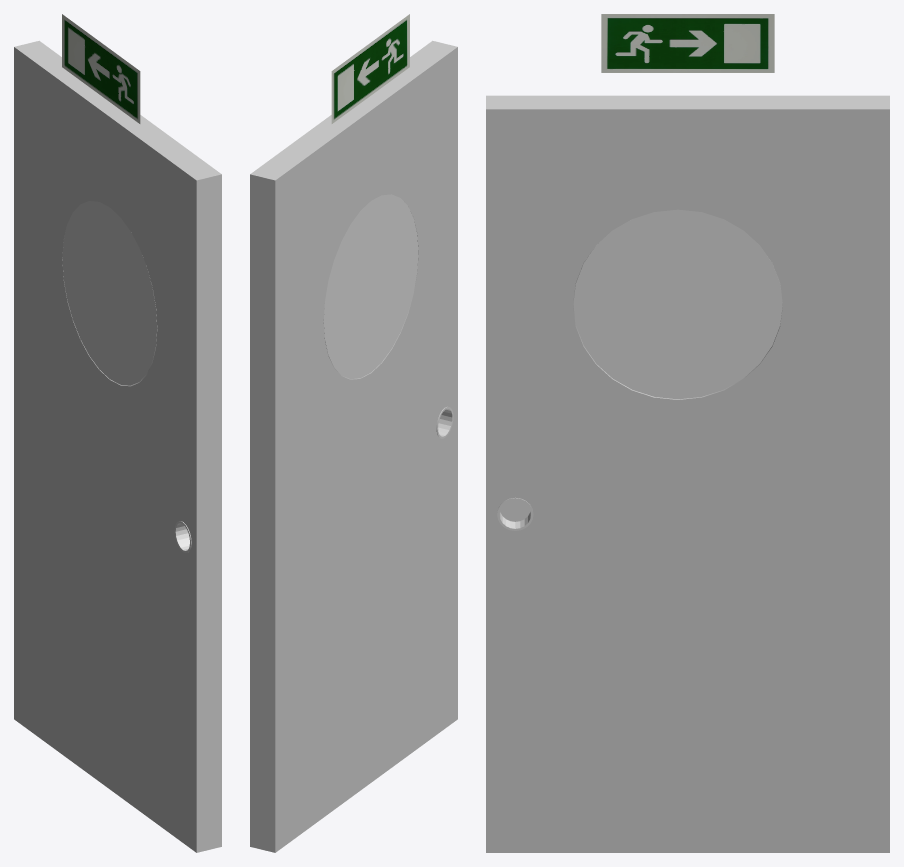
The model's file is puerta_lab.fbx.
The picture shows the model from 3 angles, left to right: view 1: azimuth 30°, elevation 25°; view 2: azimuth 150°, elevation 25°; view 3: azimuth 270°, elevation 25°; orthographic projection. The views are drawn at different scales.
Parts seen in each view (by area): view 1: Rectangle234, Cylinder208, Plane001, Cylinder207; view 2: Rectangle234, Cylinder208, Plane001, Cylinder207; view 3: Rectangle234, Cylinder208, Plane001, Cylinder207.
Boxes of the visible parts, bbox=[...] form: Rectangle234: bbox=[14, 40, 221, 852]; Cylinder208: bbox=[62, 201, 157, 385]; Plane001: bbox=[62, 14, 140, 123]; Cylinder207: bbox=[174, 521, 191, 552]; Rectangle234: bbox=[250, 40, 457, 852]; Cylinder208: bbox=[323, 194, 418, 378]; Plane001: bbox=[331, 14, 409, 123]; Cylinder207: bbox=[436, 406, 453, 438]; Rectangle234: bbox=[486, 95, 889, 852]; Cylinder208: bbox=[573, 209, 782, 399]; Plane001: bbox=[601, 14, 774, 72]; Cylinder207: bbox=[497, 497, 533, 530].
Size of the model in its own units: 10.63 by 253 by 112.
